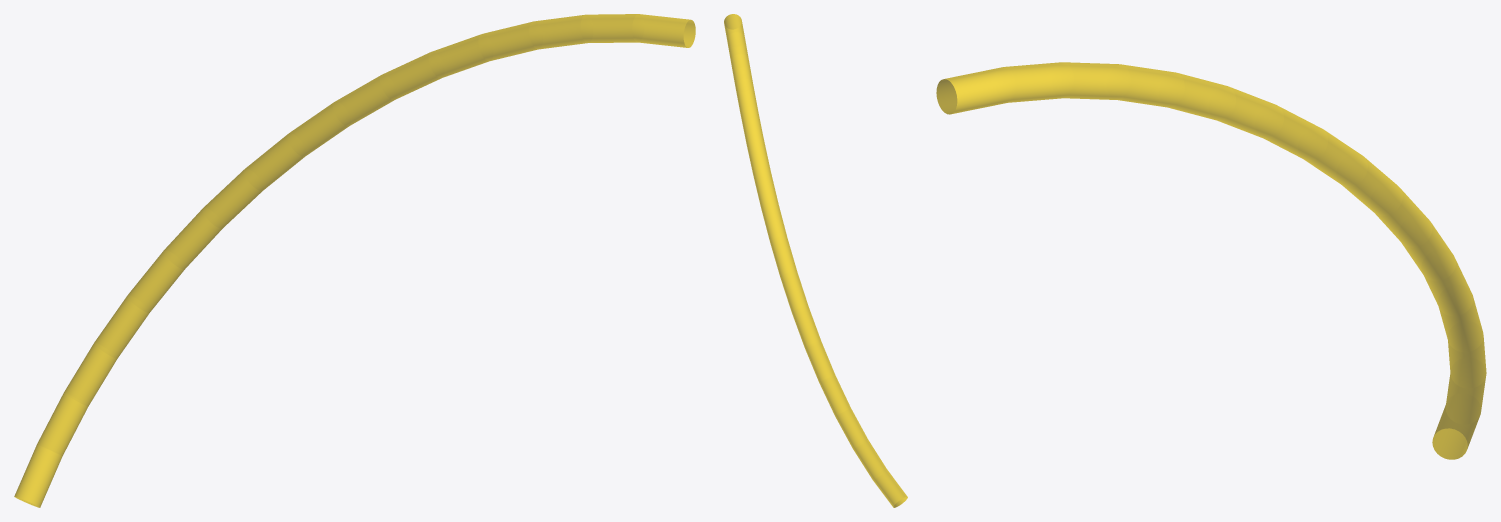
File: Event_40932208_track_30.fbx
3 views of the same model, side by side, from view 1: azimuth 30°, elevation 25°; view 2: azimuth 150°, elevation 25°; view 3: azimuth 270°, elevation 25° (orthographic). The views are drawn at different scales.
Visible parts, largest first — view 1: Model; view 2: Model; view 3: Model.
Part boxes in pixels (box(x1,y1,x2,y2)): Model: box(14, 14, 695, 507); Model: box(724, 14, 907, 507); Model: box(936, 62, 1486, 459).
Size of the model in its own units: 0.7837 by 0.8065 by 0.6095.
